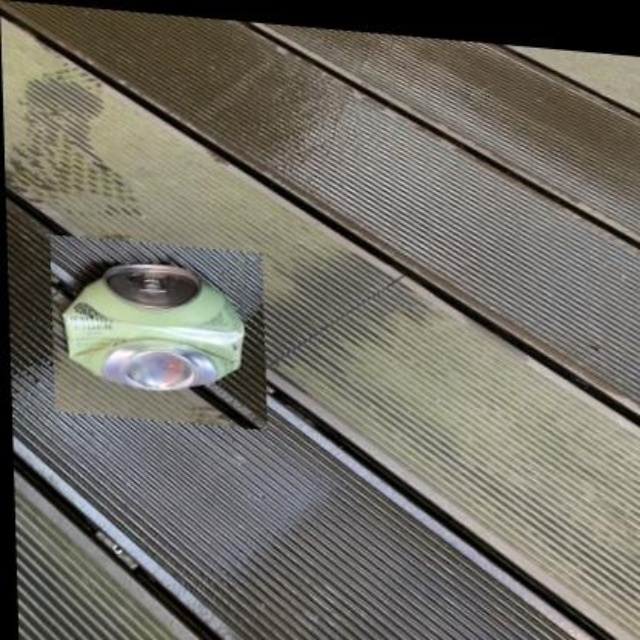trash: (63, 265, 243, 389)
